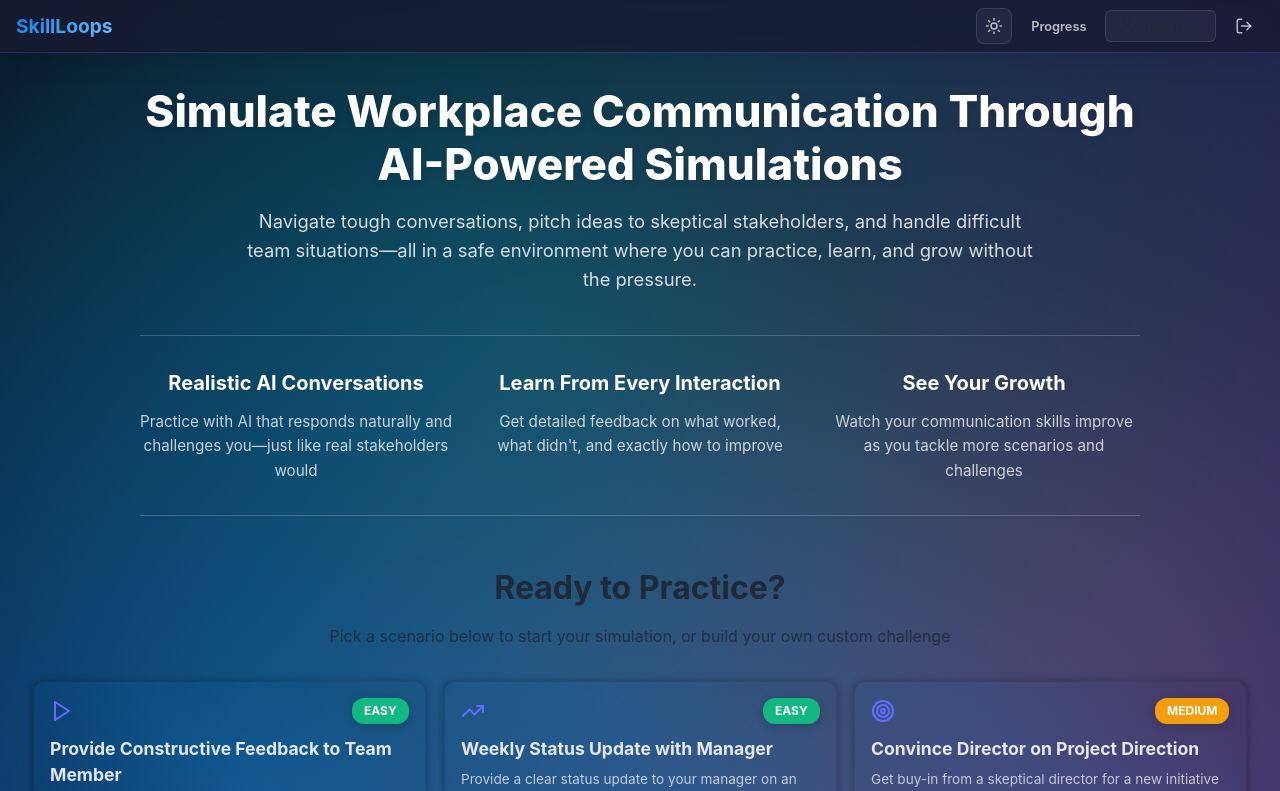
Scenario: Progress Tracking Integration Tests › should display session scores in history
Expected: the heading "Ready to Practice?" is shown, 494,568 -> 786,607
Click the button "Progress" at (1059, 26), box 1020,13 -> 1098,39
(page scrolled)
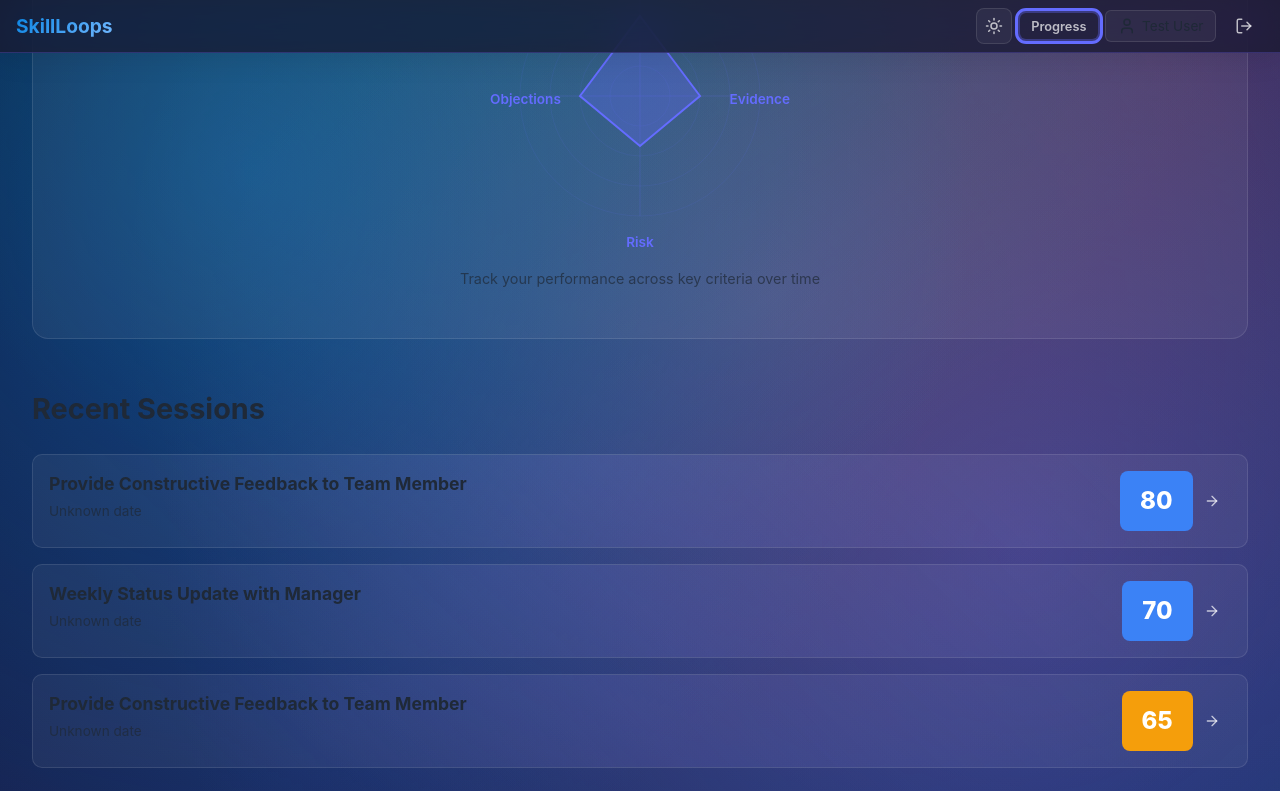
Expected: the text "80" is shown, 1120,471 -> 1193,531
Expected: the text "70" is shown, 1122,581 -> 1193,641
Expected: the text "65" is shown, 1122,691 -> 1193,751
